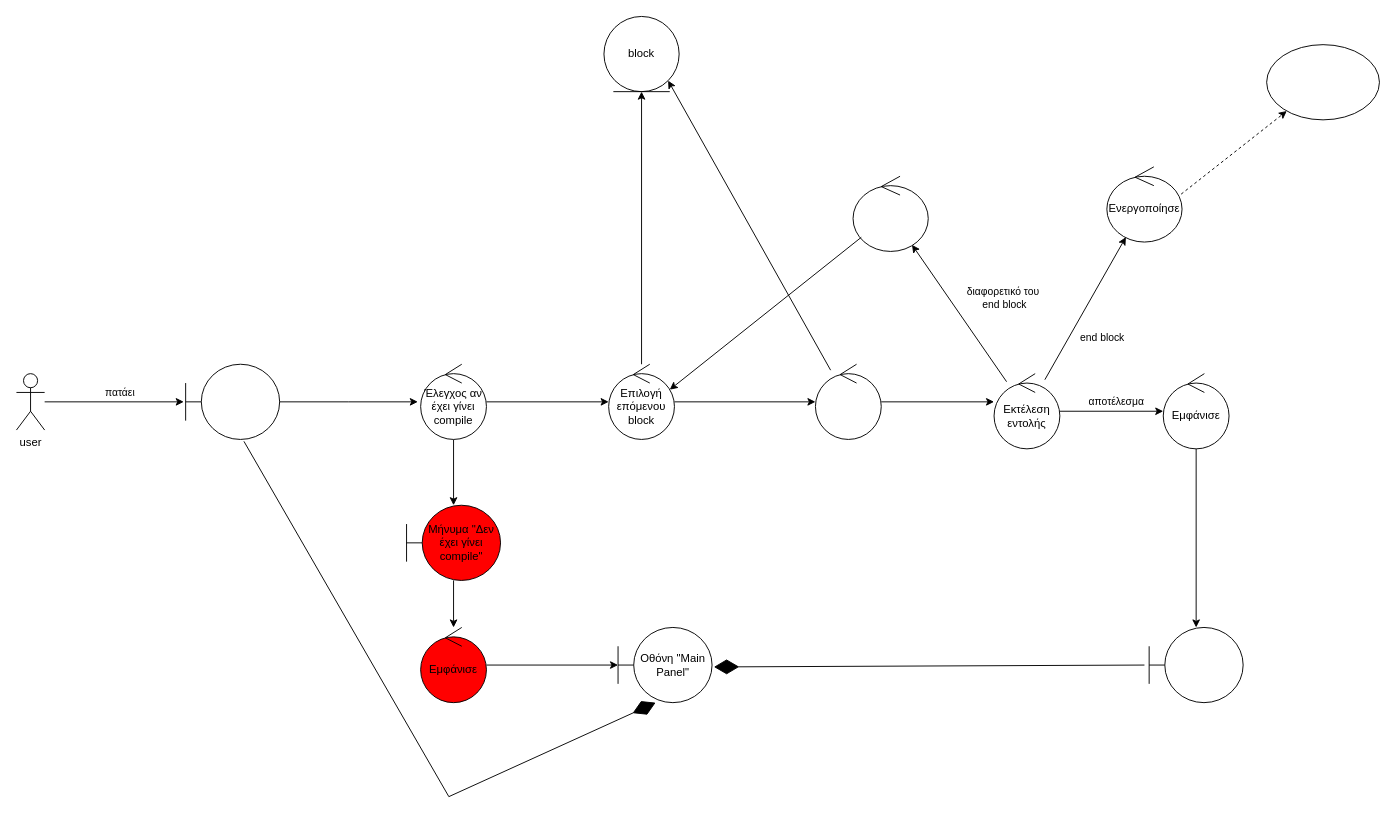
Image size: 1396x838. Some labels were removed from this diagram. The shapes that lost their labels are listed below. From the top down, each one's centre as x and y in pixels, then its label:
point (1322, 82): Εκκαθάριση οθόνης εξόδου
point (890, 213): χρονική καθυστέρηση
point (232, 401): Οθόνη "Κουμπί Run"
point (848, 401): Αλλαγή χρώματος block
point (1195, 665): Οθόνη εξόδου
